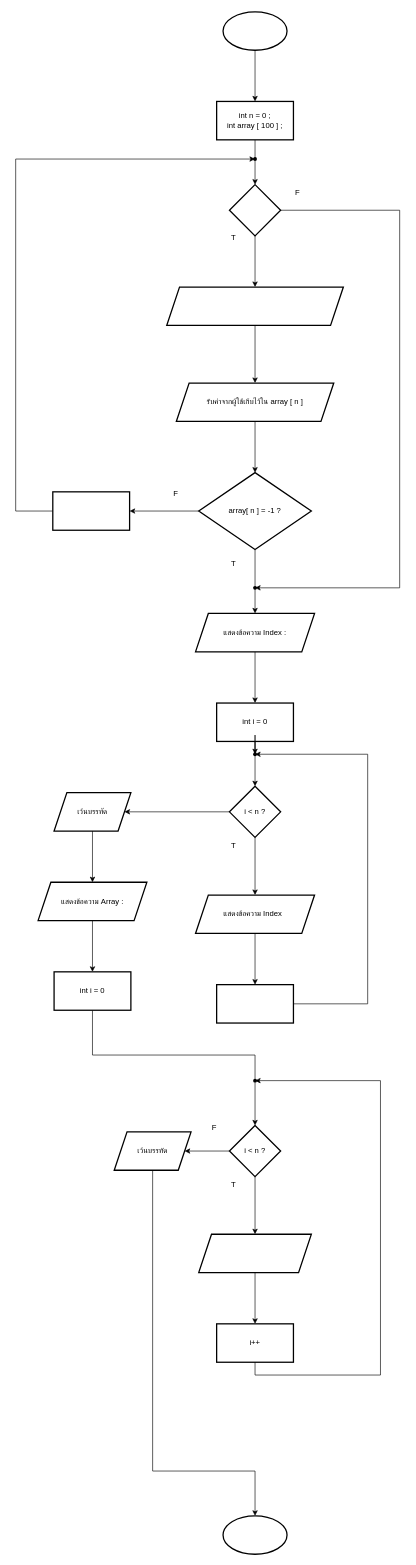
The diagram is 416 pixels wide and 1565 high, and some of its shapes have lost their labels. The centre of each missing label's shape, as x and y in pixels:
"end" goes at point 254,1535.
"i ++" goes at point 255,1003.
"n < 100 ?" goes at point 254,210.
"n++" goes at point 91,511.
"start" goes at point 254,31.
"แสดงข้อความ Input [ %d ]" goes at point 255,306.
"แสดงตัวเลขที่เก็บไว้ใน array" goes at point 255,1253.
